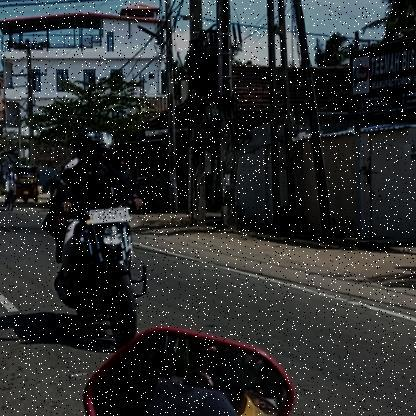motorcycle: (52, 204, 154, 348)
